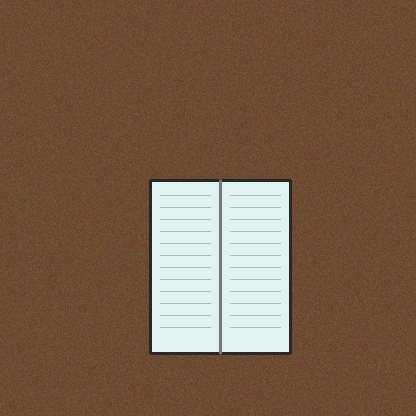book: (150, 180, 290, 353)
